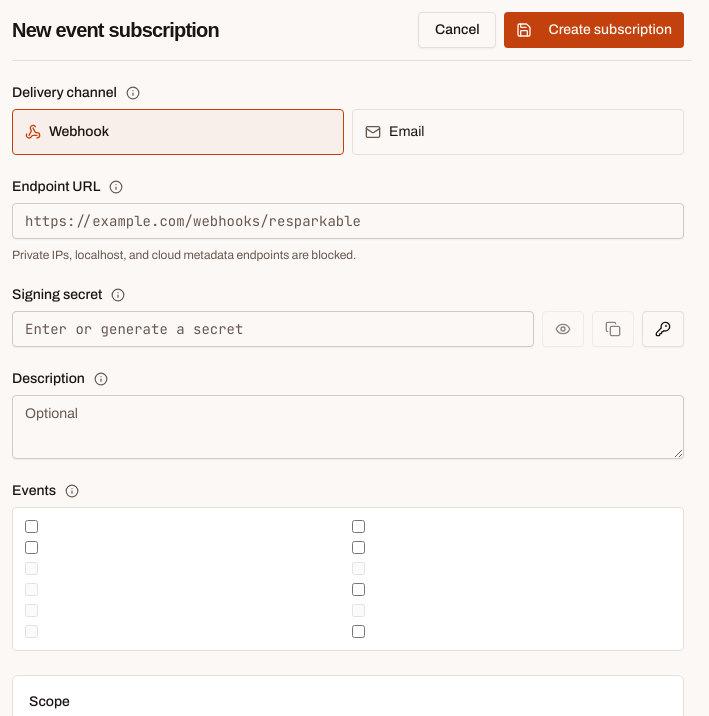
Test case: WebhookForm › shows events validation error when no event is selected on submit
// Act — fill URL + valid secret but leave events unchecked
Type "https://example.com/hook" into the field labelled "Endpoint URL". click: (348, 221)
box: [12, 203, 684, 239]
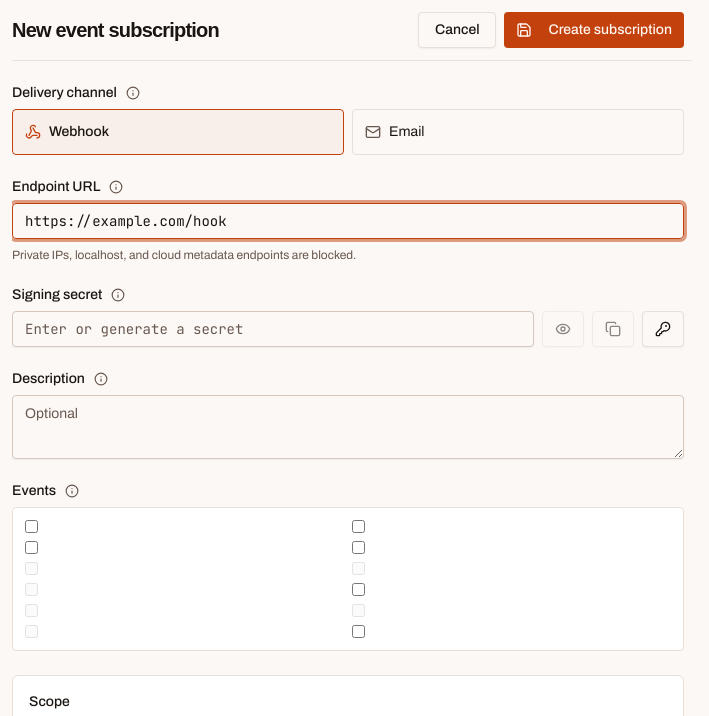
Click the button titled "generate a random secret". click: (663, 329)
box: [642, 311, 684, 347]
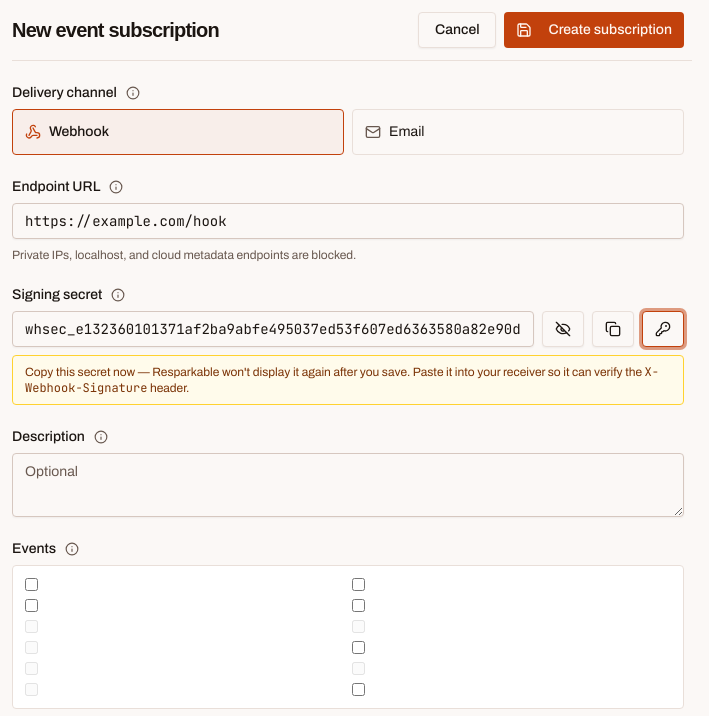
Click the button "Create subscription". click: (594, 30)
box: [504, 12, 684, 48]
(page scrolled)
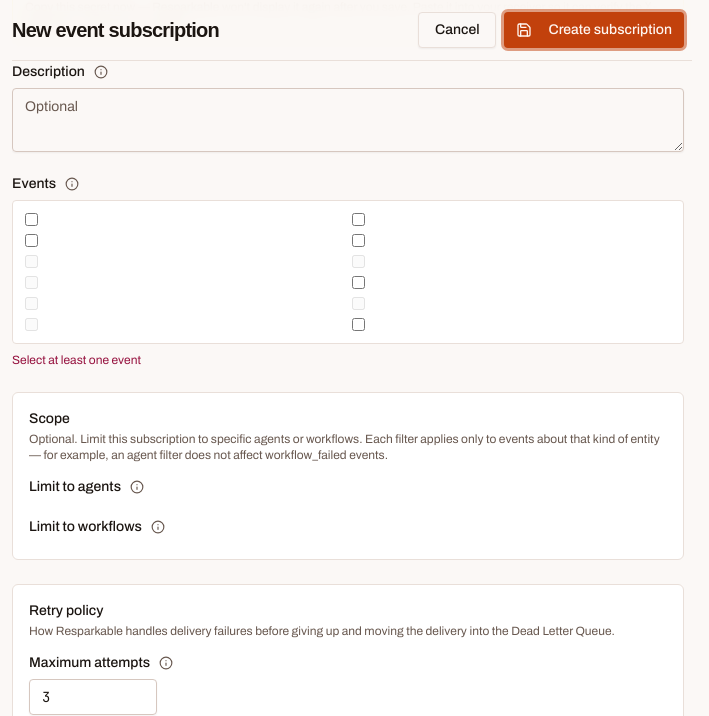
Expected: the text "Select at least one event" is shown, [12, 353, 141, 367]
